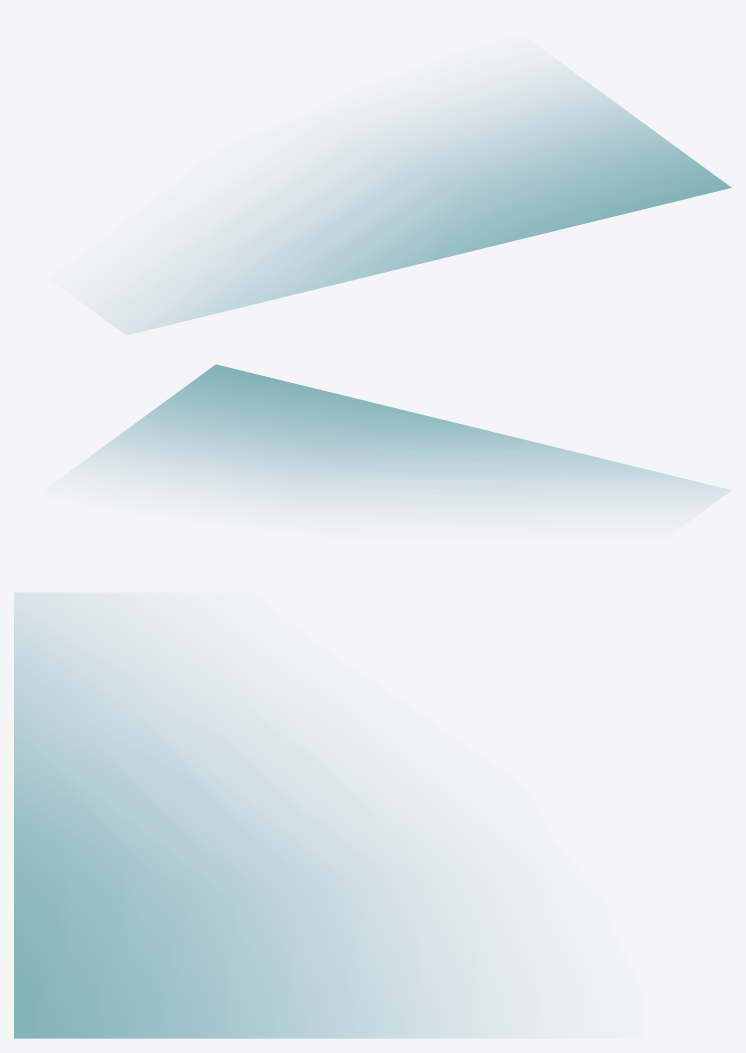
The picture shows the model from 3 angles, top to bottom: view 1: azimuth 30°, elevation 25°; view 2: azimuth 150°, elevation 25°; view 3: azimuth 270°, elevation 25°; orthographic projection. The views are drawn at different scales.
Visible parts, largest first — view 1: city; view 2: city; view 3: city.
Boxes of the visible parts, <box> form: city: <box>100,65,731,334</box>; city: <box>74,364,730,509</box>; city: <box>14,592,521,1038</box>.
Size of the model in its own units: 500 by 0 by 340.
